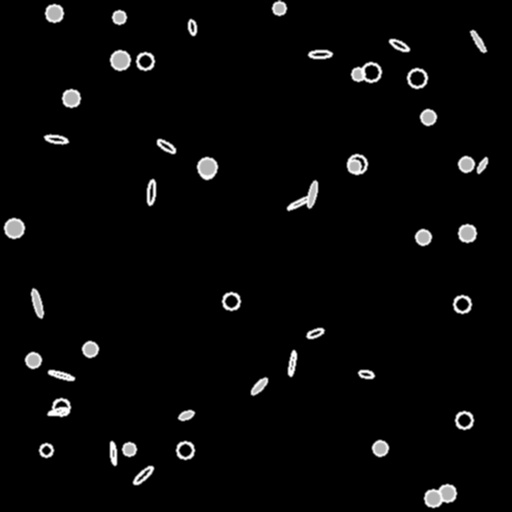pseudomonas: (286, 193, 314, 211), (132, 464, 154, 486), (30, 289, 44, 317), (305, 180, 319, 208), (470, 29, 486, 53), (250, 376, 268, 396), (156, 138, 176, 154), (48, 369, 74, 381), (389, 38, 409, 52), (475, 156, 489, 174), (45, 134, 67, 144), (306, 327, 324, 339), (109, 441, 117, 465), (147, 180, 155, 204), (288, 351, 296, 375), (48, 406, 66, 416), (358, 369, 374, 379), (178, 410, 194, 420), (308, 51, 332, 57), (188, 19, 196, 35)
synechocystis: (348, 155, 366, 173), (362, 63, 380, 81), (198, 158, 216, 176), (408, 69, 426, 87), (111, 51, 129, 69), (5, 219, 23, 237), (454, 296, 470, 312), (53, 399, 69, 415), (439, 485, 455, 501), (456, 412, 472, 428), (459, 225, 475, 241), (46, 5, 62, 21), (177, 442, 193, 458), (63, 90, 79, 106), (137, 53, 153, 69), (425, 490, 441, 506), (223, 293, 239, 309), (421, 110, 435, 124), (26, 353, 40, 367), (373, 441, 387, 455), (200, 164, 214, 178), (83, 342, 97, 356), (416, 230, 430, 244), (459, 157, 473, 171), (352, 68, 364, 80), (40, 444, 52, 456), (273, 2, 285, 14), (348, 160, 360, 172), (113, 11, 125, 23), (123, 443, 135, 455)
